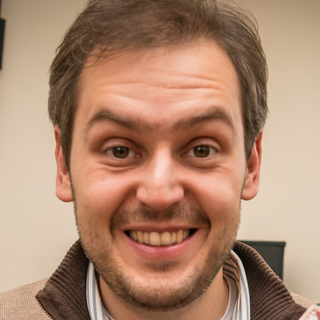eye: (93, 139, 146, 164), (177, 138, 224, 164)
